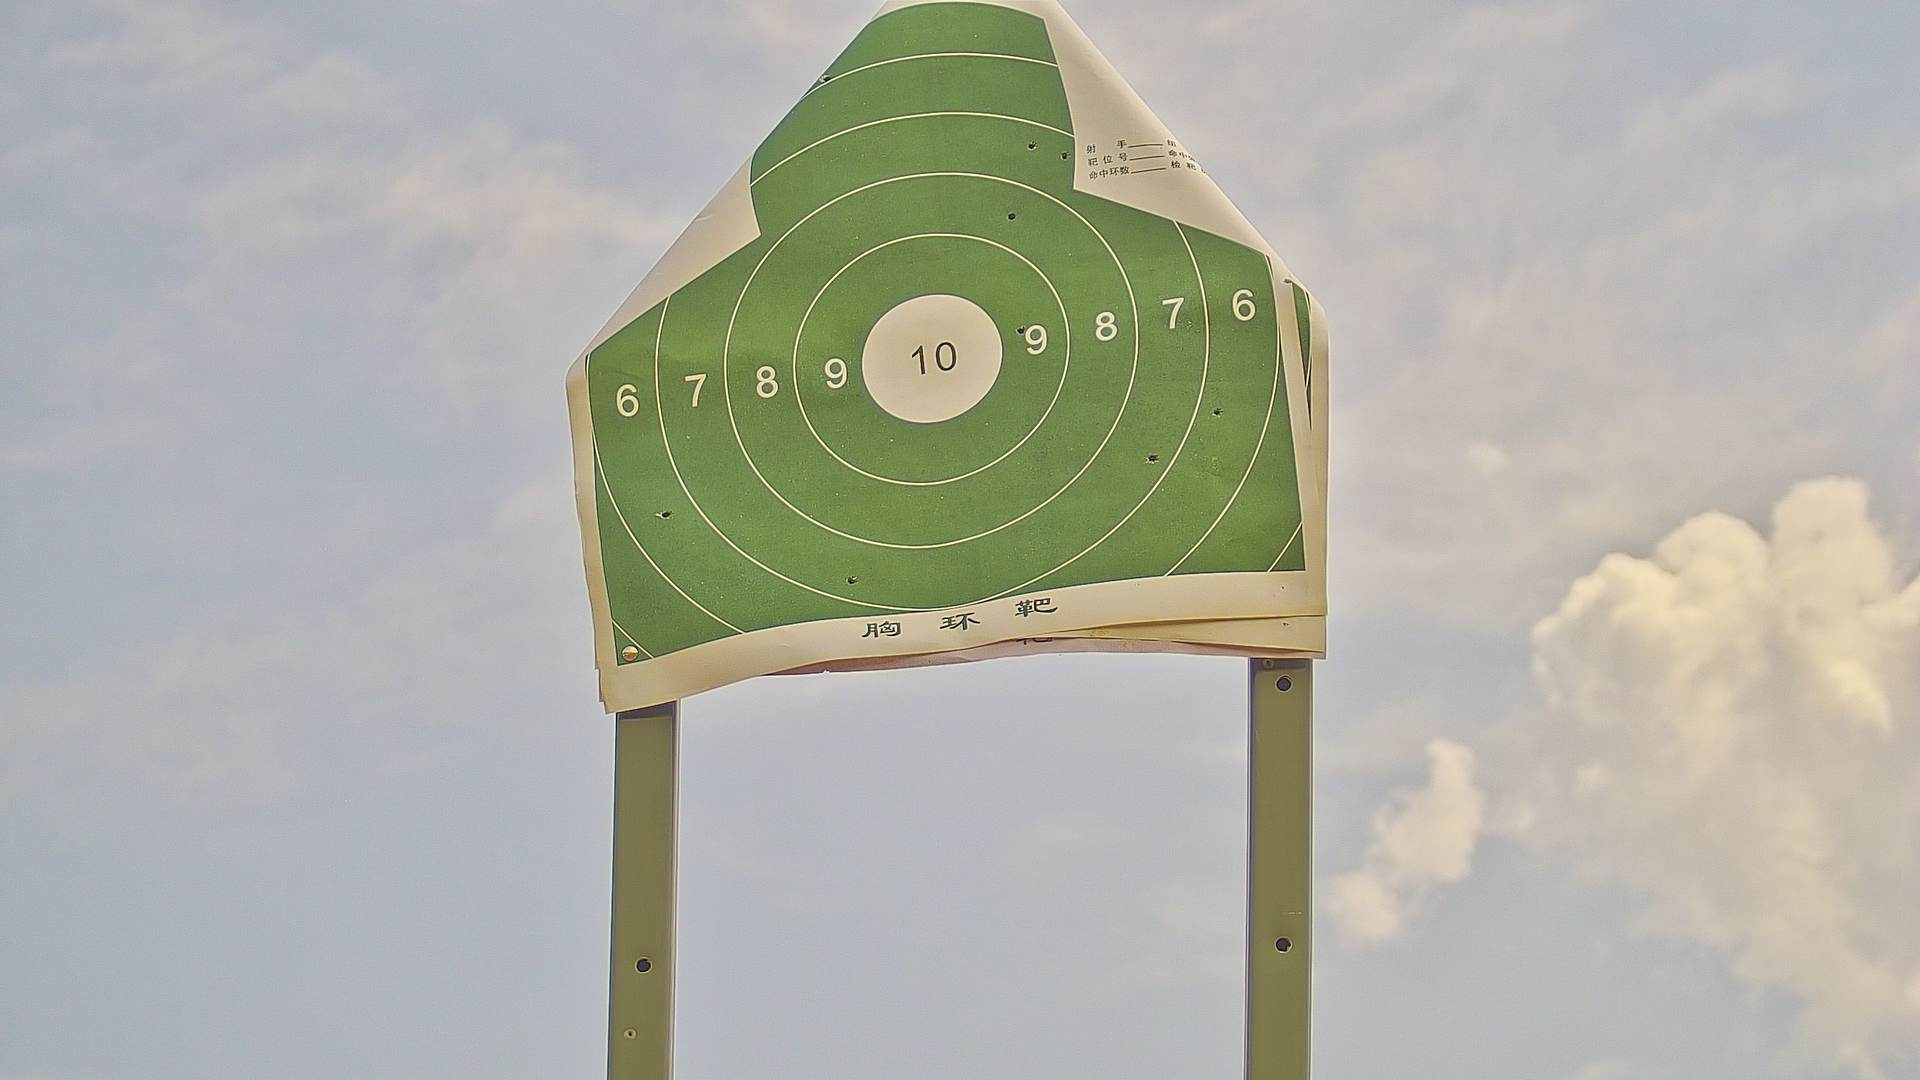hole: (653, 506, 675, 524), (1145, 450, 1164, 467), (1004, 206, 1021, 224), (839, 574, 862, 587), (1211, 404, 1226, 423), (1014, 323, 1034, 338), (818, 73, 836, 86), (1025, 137, 1040, 150), (1059, 146, 1072, 161), (928, 355, 936, 363)
target: (585, 3, 1311, 657)
ten: (861, 293, 1006, 425)
